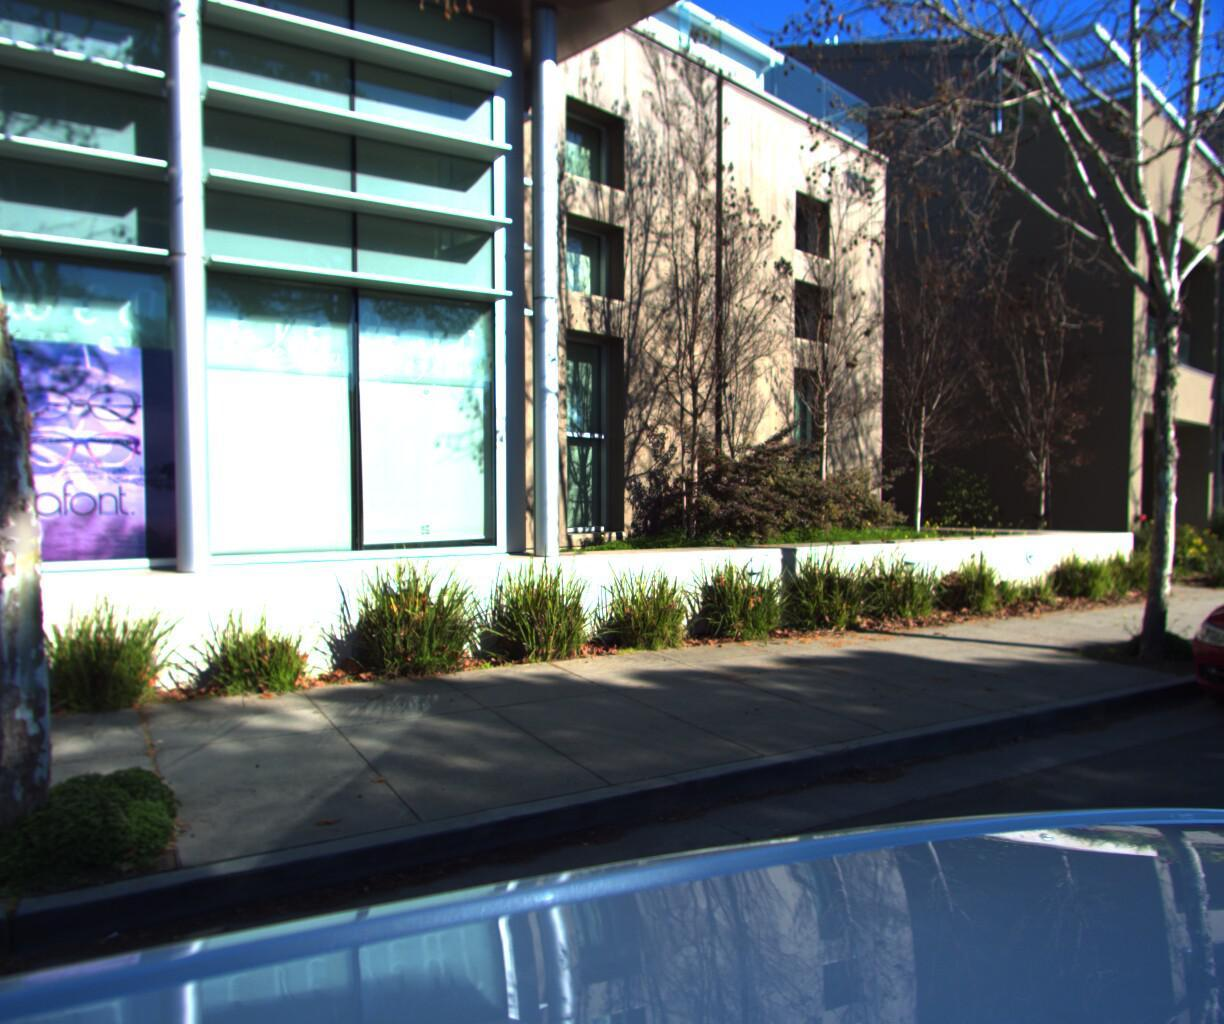car: (1144, 491, 1224, 777)
